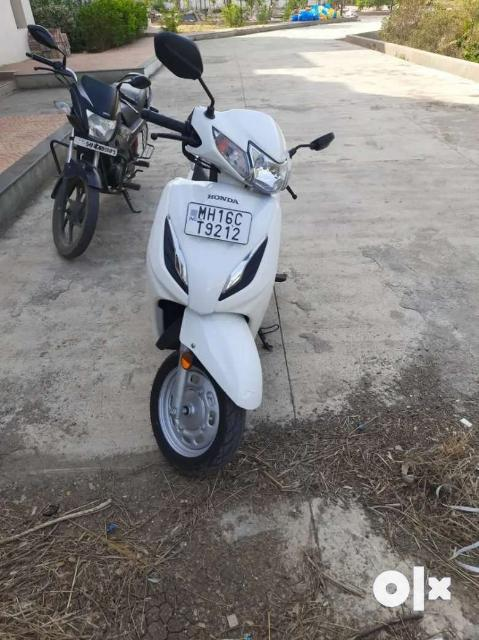Indian_Number_Plate: (185, 202, 253, 244), (74, 136, 117, 156)
